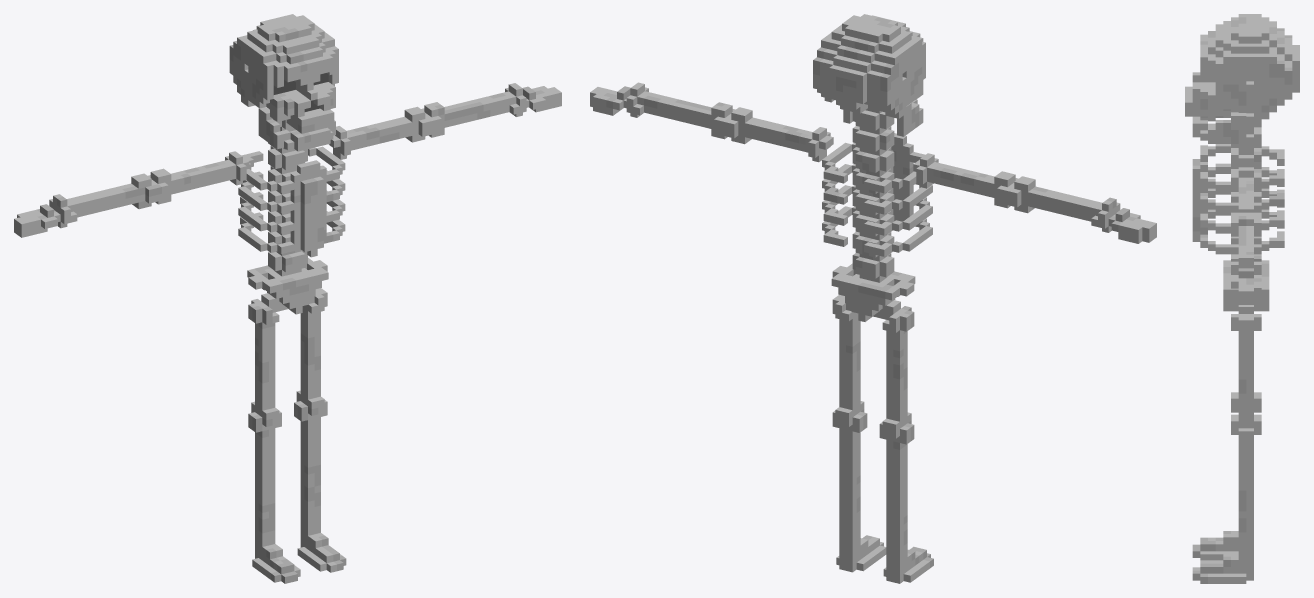
Rendered from CaveirinhaVoxelFile.obj.
3 renders of one model, left to right at view 1: azimuth 30°, elevation 25°; view 2: azimuth 150°, elevation 25°; view 3: azimuth 270°, elevation 25°, orthographic. The views are drawn at different scales.
Visible parts, largest first — view 1: CaveirinhaVoxelFile; view 2: CaveirinhaVoxelFile; view 3: CaveirinhaVoxelFile.
Boxes of the visible parts, left/top/right/bottom form: CaveirinhaVoxelFile: left=14, top=14, right=561, bottom=583; CaveirinhaVoxelFile: left=590, top=14, right=1156, bottom=583; CaveirinhaVoxelFile: left=1185, top=14, right=1299, bottom=583.
Size of the model in its own units: 83 by 78 by 15.
1 material, 1 textured.
